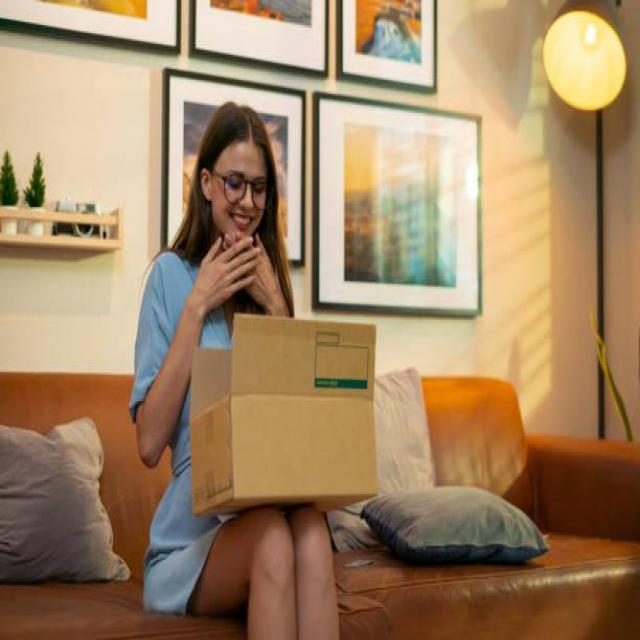box: (186, 304, 382, 518)
